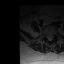CCS_normal: (49, 34, 51, 41)
LFS_normal: (53, 33, 55, 39)
LLS_normal: (51, 34, 53, 41)
RFS_normal: (45, 33, 47, 39)
RLS_normal: (47, 34, 49, 41)
